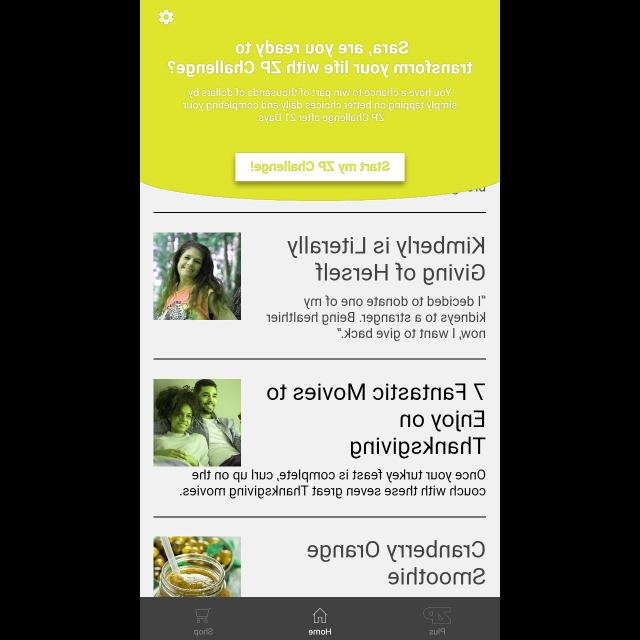icon: (312, 608, 328, 624), (158, 10, 174, 26), (195, 608, 211, 622)
image: (154, 232, 240, 320), (154, 379, 240, 466), (154, 537, 240, 597), (423, 607, 451, 623)
text: (266, 384, 486, 458), (168, 42, 472, 78), (266, 295, 486, 341), (184, 88, 456, 124), (288, 237, 484, 286), (180, 469, 484, 499), (308, 540, 484, 584), (308, 628, 332, 636), (194, 628, 212, 636), (429, 628, 445, 636)
textbutton: (235, 154, 405, 182)
